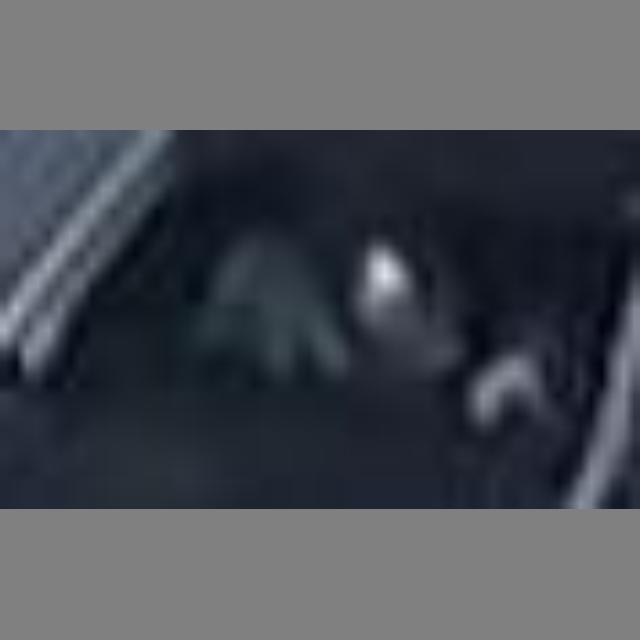pakai: (184, 206, 466, 390)
